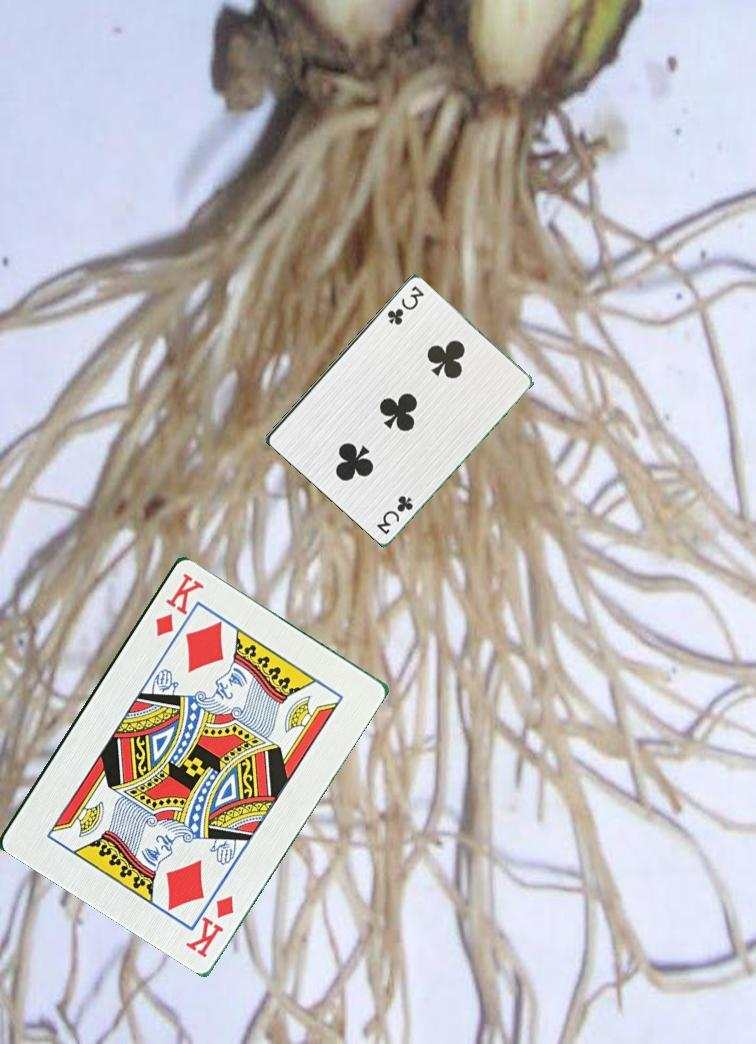3c: (373, 486, 418, 537), (383, 282, 427, 333)
kd: (182, 891, 237, 960), (151, 568, 204, 639)
